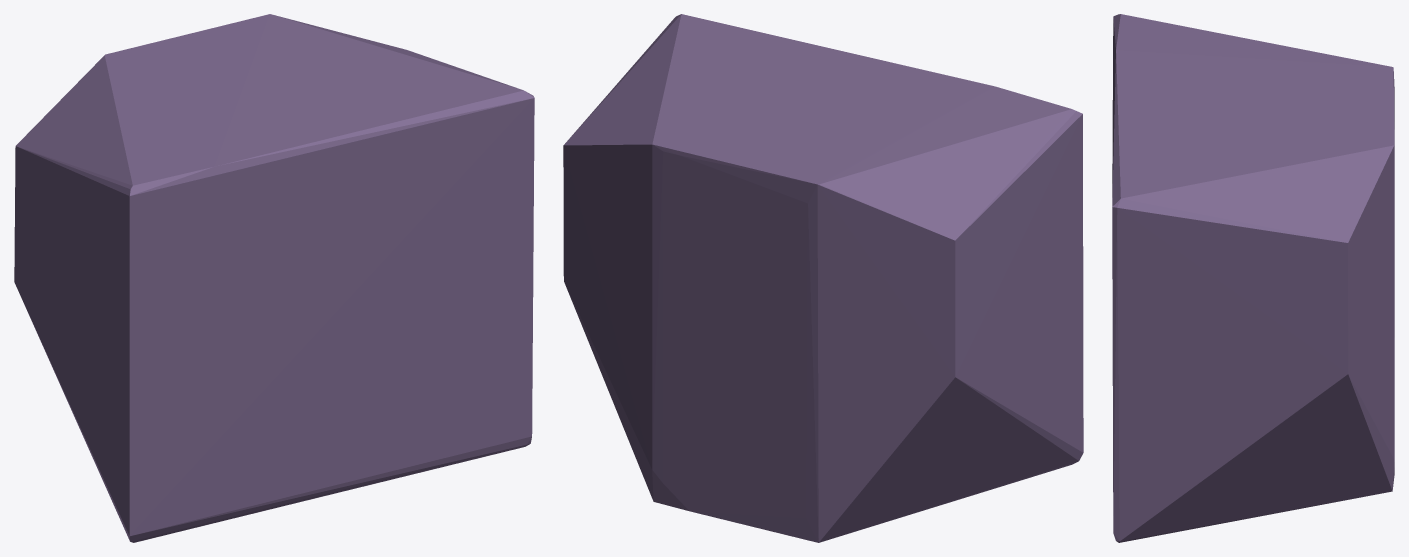
The model's file is hopper_dumpling_steel_red_a07.glb.
3 renders of one model, left to right at view 1: azimuth 30°, elevation 25°; view 2: azimuth 150°, elevation 25°; view 3: azimuth 270°, elevation 25°, orthographic. The views are drawn at different scales.
Visible parts, largest first — view 1: geometry_0; view 2: geometry_0; view 3: geometry_0.
Boxes of the visible parts, x1,y1,x2,y2 form: geometry_0: (14, 14, 534, 542); geometry_0: (563, 14, 1083, 542); geometry_0: (1112, 14, 1394, 542).
Bounding box in the file's own units: 0.4792 × 0.4057 × 0.2987.
